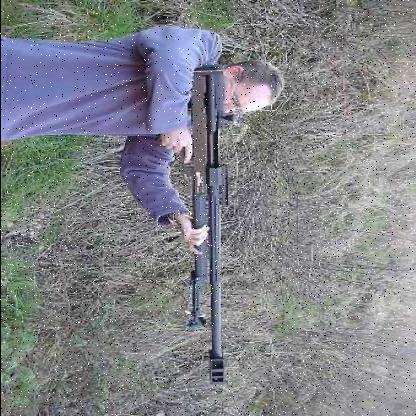rifle: (146, 66, 247, 394)
